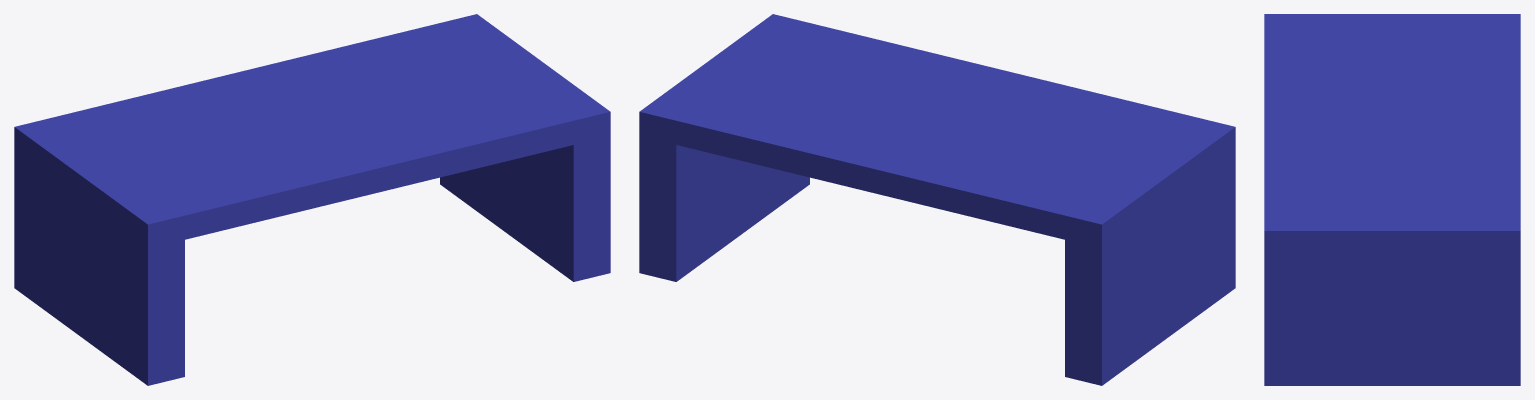
File: tableCoffee3x1x1-5.FBX
3 renders of one model, left to right at view 1: azimuth 30°, elevation 25°; view 2: azimuth 150°, elevation 25°; view 3: azimuth 270°, elevation 25°, orthographic. The views are drawn at different scales.
Parts seen in each view (by area): view 1: tableCoffee3x1x1.5; view 2: tableCoffee3x1x1.5; view 3: tableCoffee3x1x1.5.
Boxes of the visible parts, <box> form: tableCoffee3x1x1.5: <box>14,14,610,385</box>; tableCoffee3x1x1.5: <box>639,14,1235,385</box>; tableCoffee3x1x1.5: <box>1264,14,1520,385</box>.
Size of the model in its own units: 3 by 1 by 1.5.
